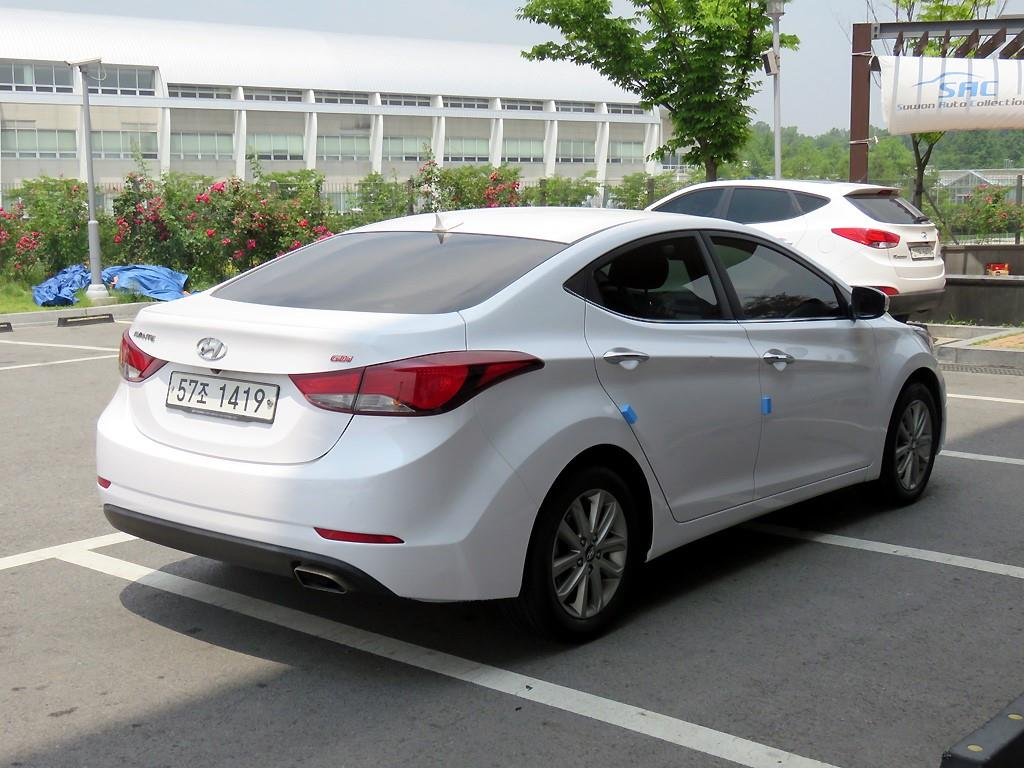plate: (165, 370, 279, 421)
